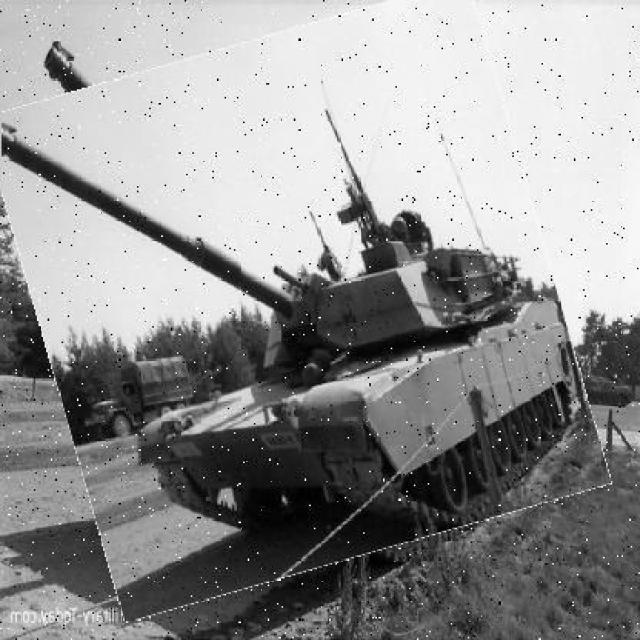Tank: (13, 9, 581, 592)
